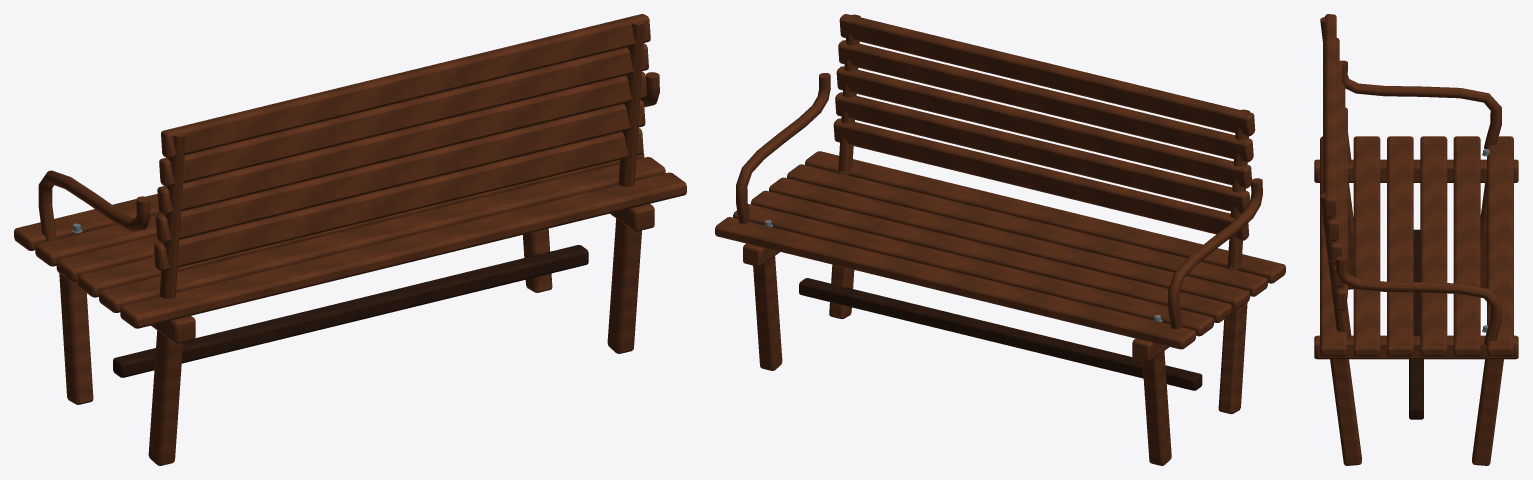
Rendered from GardenBench.fbx.
3 renders of one model, left to right at view 1: azimuth 30°, elevation 25°; view 2: azimuth 150°, elevation 25°; view 3: azimuth 270°, elevation 25°, orthographic. The views are drawn at different scales.
Parts seen in each view (by area): view 1: GardenBench__Body; view 2: GardenBench__Body; view 3: GardenBench__Body.
Part boxes in pixels (x1,y1,x2,y2): GardenBench__Body: (14,14,686,465); GardenBench__Body: (715,14,1285,465); GardenBench__Body: (1314,14,1518,465).
Size of the model in its own units: 151 by 89.6 by 61.6.
1 material, 1 textured.
